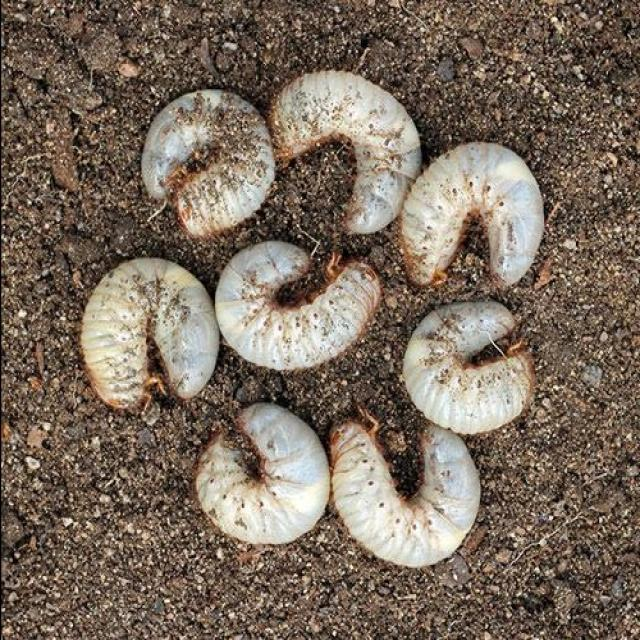grub: (396, 136, 540, 322), (70, 261, 239, 414), (270, 77, 426, 239), (329, 423, 482, 576), (142, 84, 277, 247), (221, 253, 383, 372), (403, 299, 526, 449), (201, 414, 329, 551)
